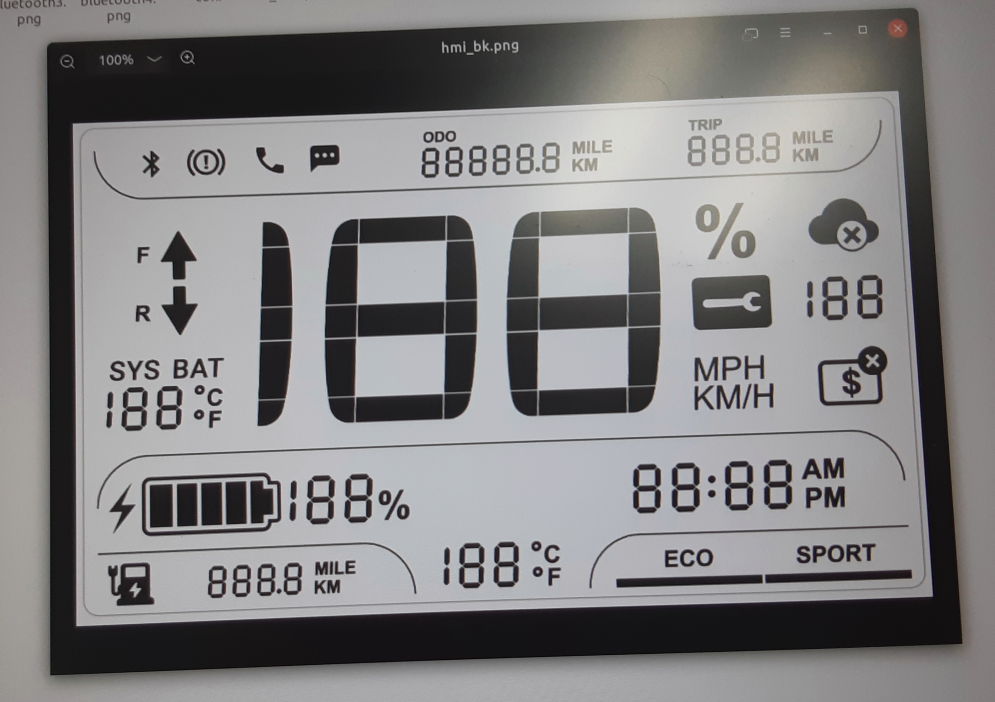bluetooth_on: (136, 147, 166, 181)
braking_on: (185, 145, 227, 178)
calling_on: (252, 144, 291, 178)
connection_lost: (805, 196, 883, 254)
error_code: (688, 272, 776, 334)
low_battery: (105, 559, 161, 609)
sms_on: (305, 142, 344, 176)
vin_id: (815, 344, 891, 409)
